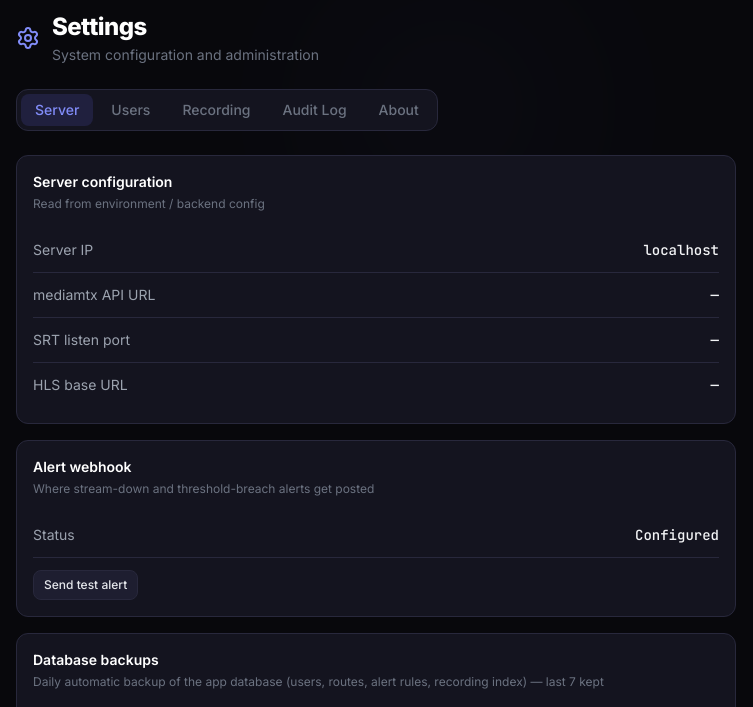
it: SettingsPage › shows a readable error message when the test alert fails
The image size is (753, 707).
Expected: the text "Configured" is shown, x1=635 y1=525 x2=719 y2=545
Step 1. Click the button "Send test alert" → [86, 585], box x1=33 y1=570 x2=138 y2=600
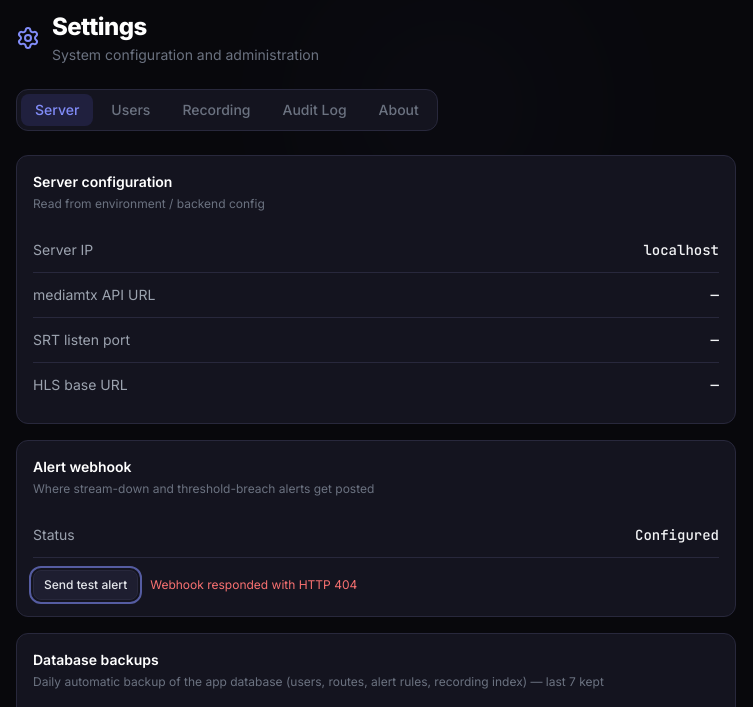
Result: the text "Webhook responded with HTTP 404" is shown at x1=150 y1=577 x2=357 y2=593
